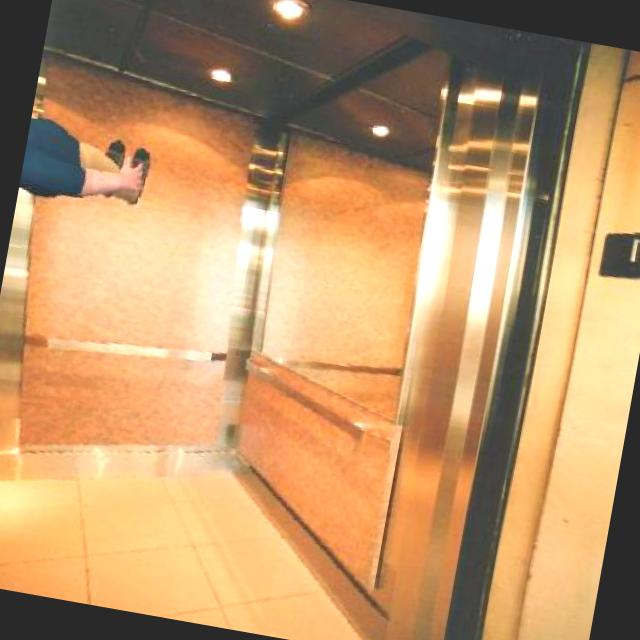Person: (17, 110, 156, 224)
